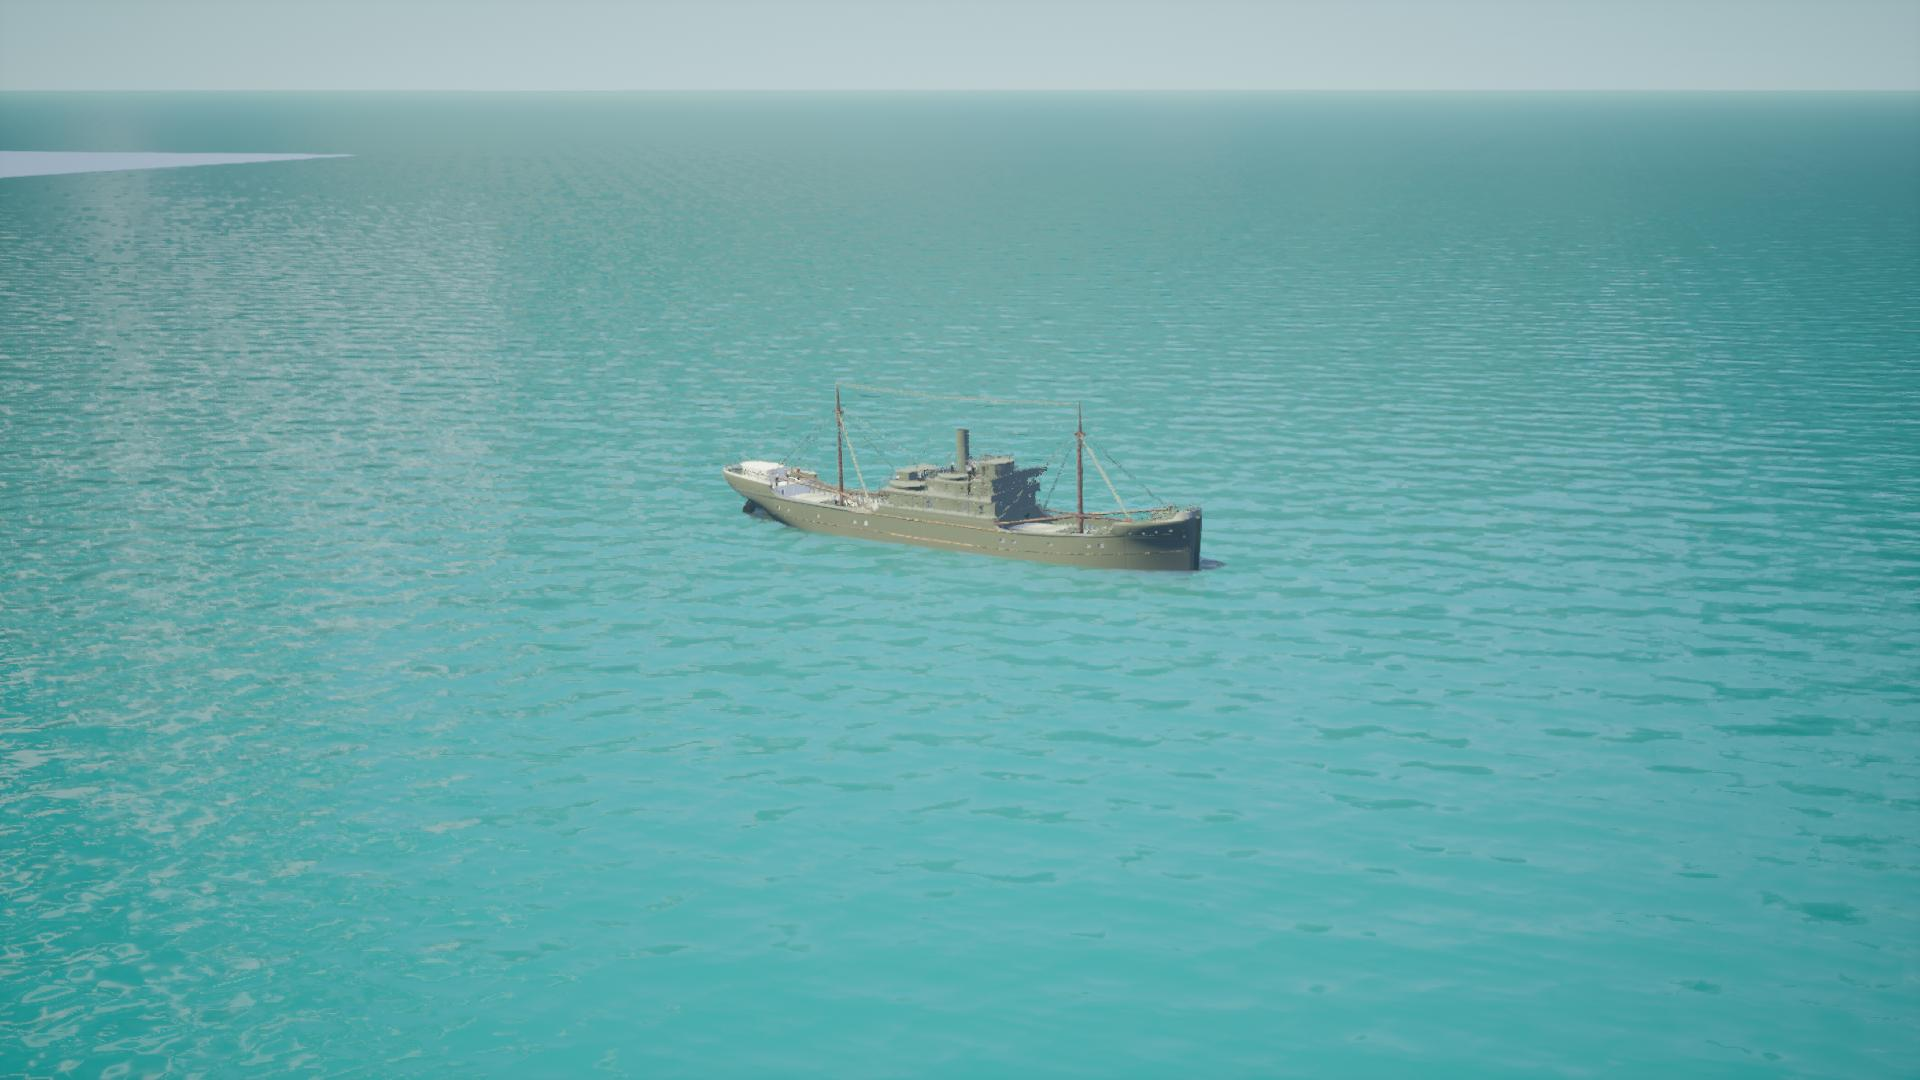Fishing Boat: (725, 400, 1205, 578)
